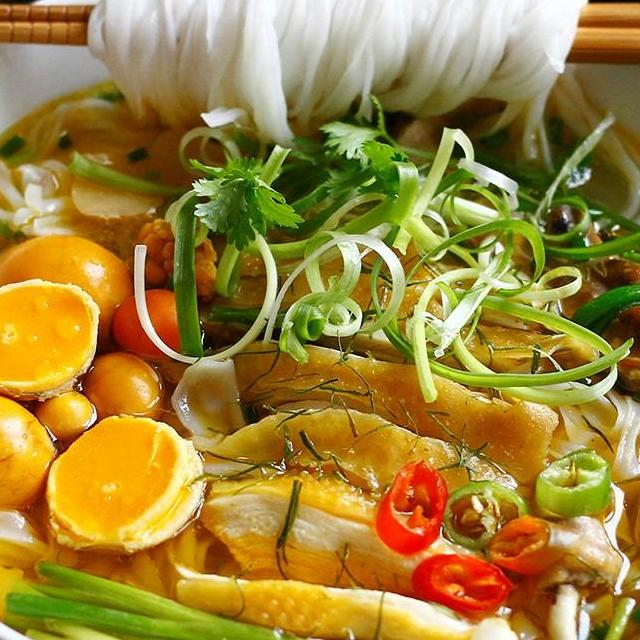banh pho: (76, 0, 611, 175), (0, 86, 121, 353), (536, 59, 640, 260)
pho bo: (0, 0, 640, 640)
thit ga: (162, 328, 567, 512), (208, 228, 608, 398), (178, 394, 549, 576), (194, 466, 503, 628), (163, 553, 551, 640)
trung: (33, 408, 213, 564), (0, 229, 140, 364), (0, 270, 107, 413), (0, 386, 66, 519), (81, 346, 172, 436), (107, 284, 199, 372), (30, 382, 103, 448)
